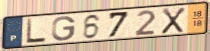2: (134, 9, 158, 37)
6: (82, 14, 100, 40)
7: (107, 10, 131, 39)
G: (51, 15, 77, 43)
L: (25, 18, 48, 45)
X: (160, 7, 188, 35)
